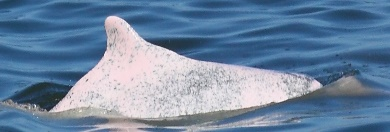fin: (45, 12, 328, 122)
